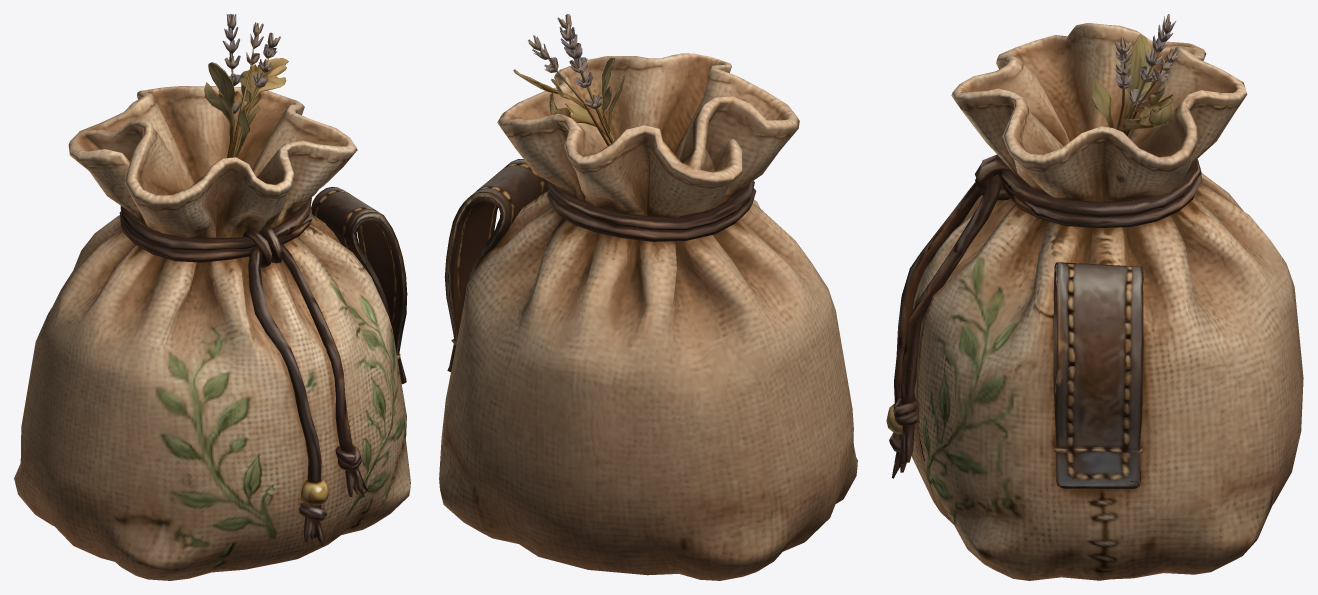
File: Wear_ScentPouch.fbx
The picture shows the model from 3 angles, left to right: view 1: azimuth 30°, elevation 25°; view 2: azimuth 150°, elevation 25°; view 3: azimuth 270°, elevation 25°; orthographic projection. The views are drawn at different scales.
Visible parts, largest first — view 1: Wear_ScentPouch; view 2: Wear_ScentPouch; view 3: Wear_ScentPouch.
Boxes of the visible parts, <box> form: Wear_ScentPouch: <box>14,14,410,580</box>; Wear_ScentPouch: <box>439,14,857,580</box>; Wear_ScentPouch: <box>886,14,1303,580</box>.
Bounding box in the file's own units: 0.1134 × 0.15 × 0.1078.
